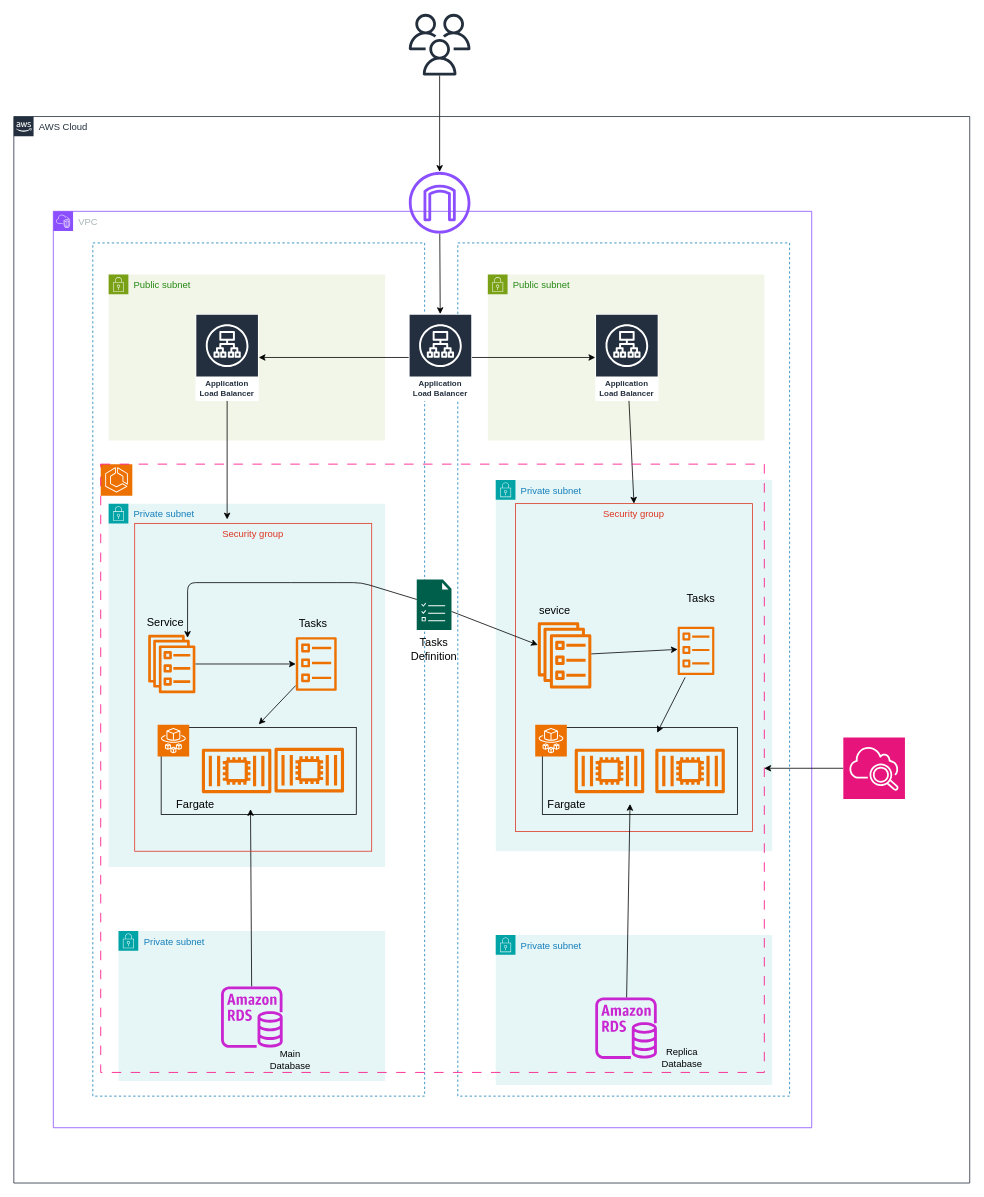
The diagram is 984 pixels wide and 1197 high, and some of its shapes have lost their labels. Each missing label, with the box of its shape:
Availability Zone 1: (92, 242, 425, 1096)
Availability Zone 2: (457, 242, 790, 1096)
ECS Cluster: (100, 463, 764, 1072)
